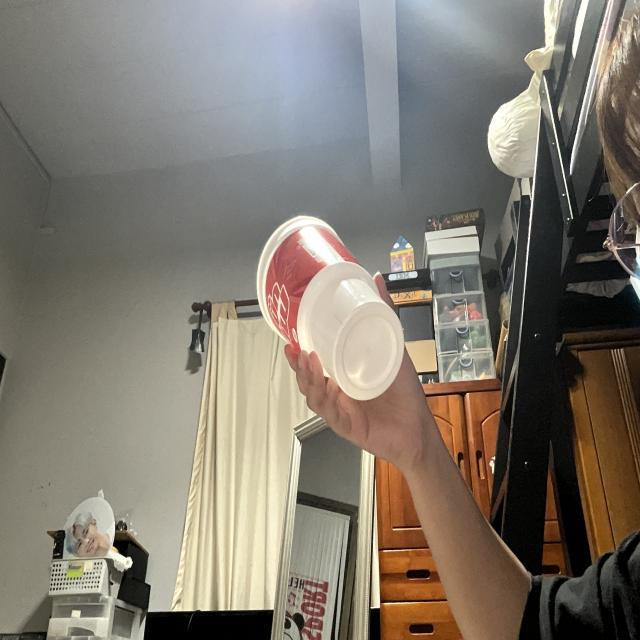cup: (256, 214, 407, 402)
